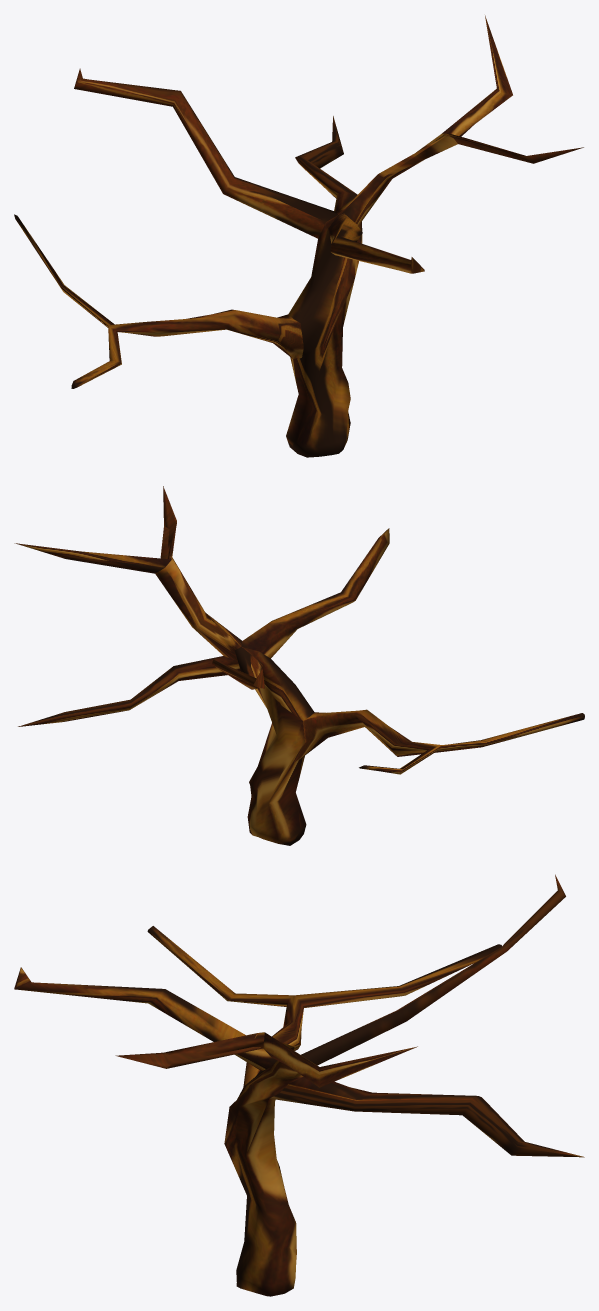
File: tree_wide_trunk_200m.DAE
3 renders of one model, top to bottom at view 1: azimuth 30°, elevation 25°; view 2: azimuth 150°, elevation 25°; view 3: azimuth 270°, elevation 25°, orthographic. The views are drawn at different scales.
Visible parts, largest first — view 1: Box01; view 2: Box01; view 3: Box01.
Part boxes in pixels (<box>): Box01: <box>14,15,583,457</box>; Box01: <box>14,486,584,845</box>; Box01: <box>14,874,584,1296</box>.
Bounding box in the file's own units: 165 × 99.09 × 137.
